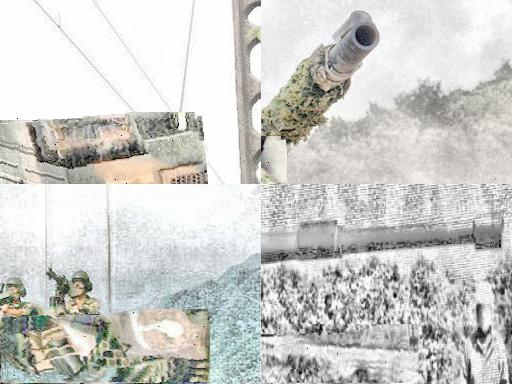tanks: (2, 310, 211, 380), (1, 114, 205, 185), (262, 222, 503, 265), (263, 325, 419, 365)
